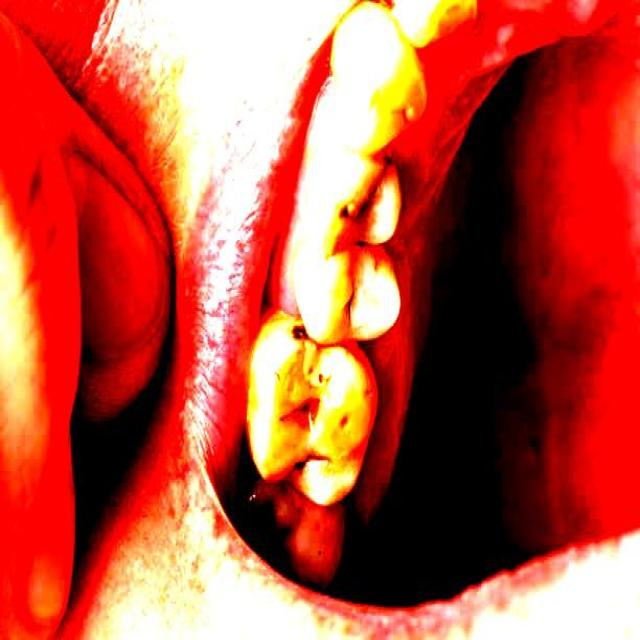caries: (332, 172, 382, 240), (271, 376, 323, 438), (286, 442, 332, 488), (278, 304, 312, 353), (374, 142, 404, 188), (332, 403, 358, 447), (349, 230, 380, 262)
